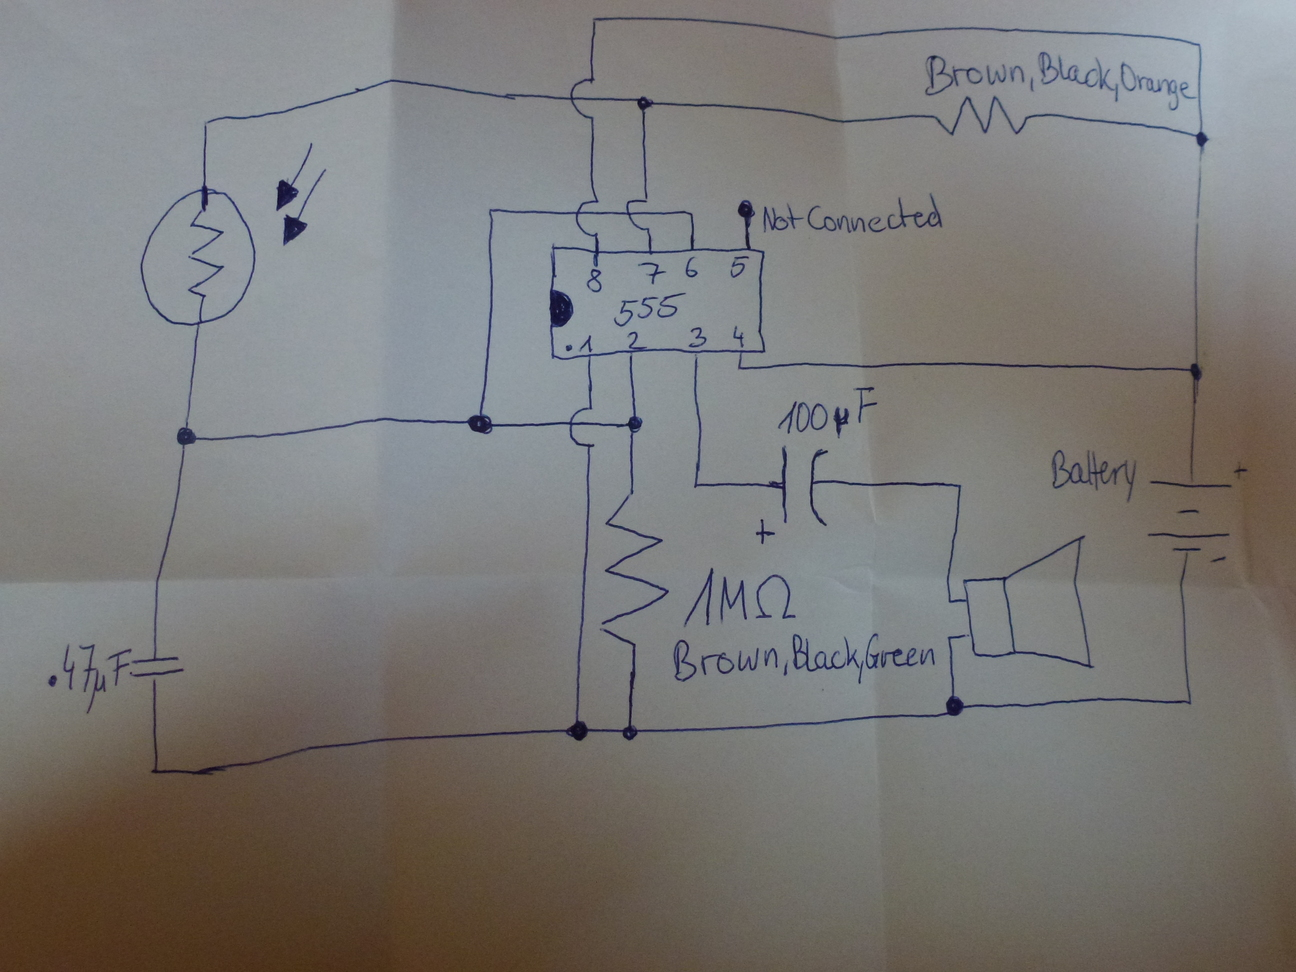capacitor.polarized: (751, 442, 832, 547)
capacitor.unpolarized: (123, 652, 185, 684)
crossover: (565, 403, 602, 449), (566, 72, 599, 119), (621, 192, 657, 229), (574, 194, 604, 232)
integrated_circuit: (546, 243, 769, 363)
junction: (170, 419, 207, 453), (558, 712, 595, 745), (614, 716, 647, 748), (464, 409, 495, 437), (940, 691, 968, 719), (1191, 126, 1214, 153), (632, 89, 653, 114), (622, 414, 645, 436), (197, 113, 218, 136), (145, 760, 166, 780), (586, 11, 606, 32), (1186, 359, 1205, 381), (948, 477, 968, 493), (1190, 37, 1207, 54), (689, 477, 705, 493), (1182, 691, 1196, 709), (483, 204, 499, 218), (944, 633, 956, 646), (734, 361, 746, 375), (683, 206, 695, 218), (944, 595, 955, 607)
resistor: (597, 481, 666, 666), (923, 92, 1037, 147)
resistor.photo: (138, 137, 329, 329)
speaker: (961, 532, 1099, 672)
terminal: (735, 199, 756, 229)
text: (665, 626, 944, 683), (918, 50, 1199, 100), (756, 198, 946, 237), (684, 566, 799, 628), (50, 642, 124, 716), (1048, 447, 1136, 500), (775, 390, 876, 436), (613, 289, 684, 328), (583, 264, 605, 293), (639, 259, 662, 286), (564, 335, 592, 354), (687, 324, 708, 348), (624, 329, 644, 351), (728, 257, 746, 278), (730, 325, 746, 347), (683, 256, 699, 278)
voltage.dc: (1137, 472, 1246, 563)
